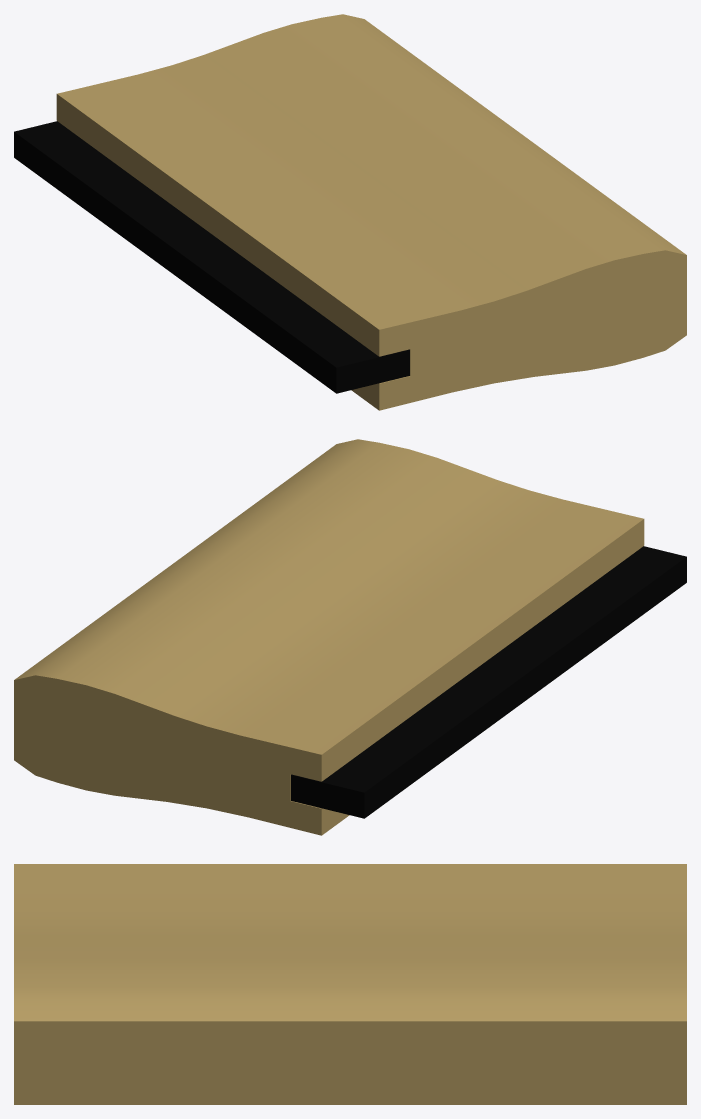
Rendered from Escobillín.fbx.
3 renders of one model, top to bottom at view 1: azimuth 30°, elevation 25°; view 2: azimuth 150°, elevation 25°; view 3: azimuth 270°, elevation 25°, orthographic. The views are drawn at different scales.
Parts seen in each view (by area): view 1: Cube.004; view 2: Cube.004; view 3: Cube.004.
Boxes of the visible parts, x1,y1,x2,y2 form: Cube.004: (14, 14, 686, 410); Cube.004: (14, 439, 686, 835); Cube.004: (14, 864, 686, 1104).
Size of the model in its own units: 0.1966 by 0.0564 by 0.3133.
